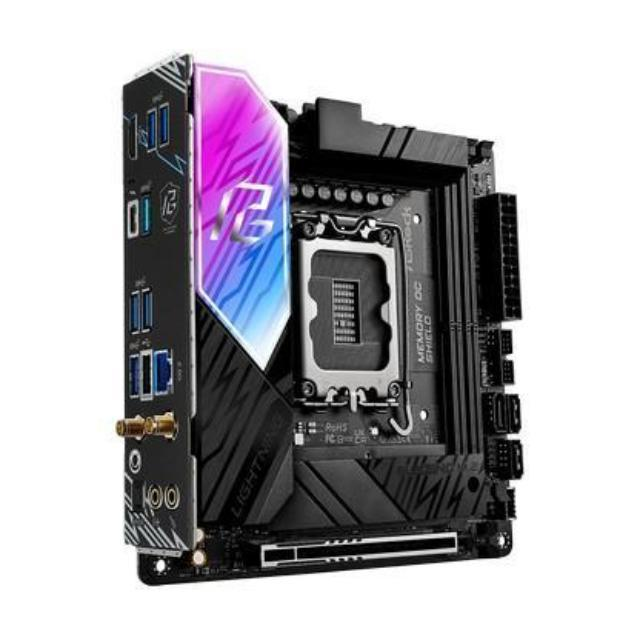Mainboard: (107, 54, 524, 592)
